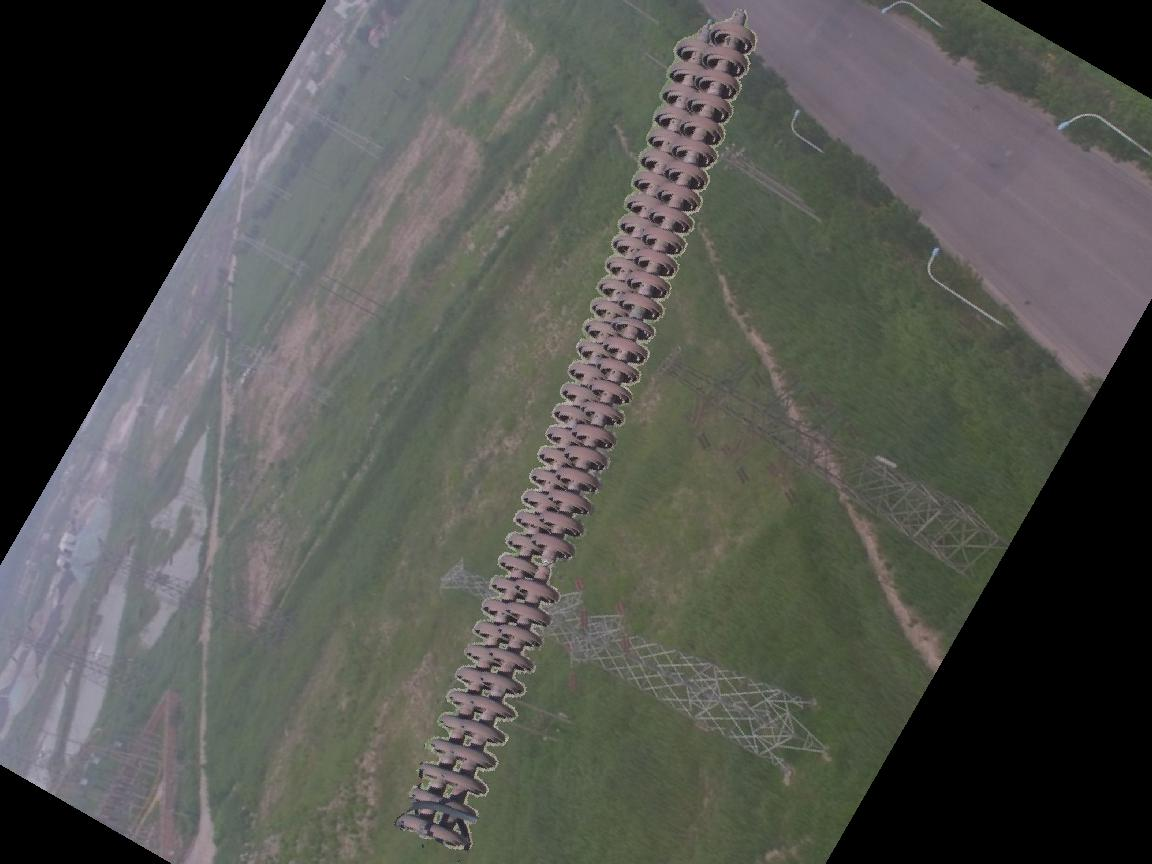insulator: (395, 23, 762, 854)
insulator_stringdrop: (512, 530, 578, 605)
